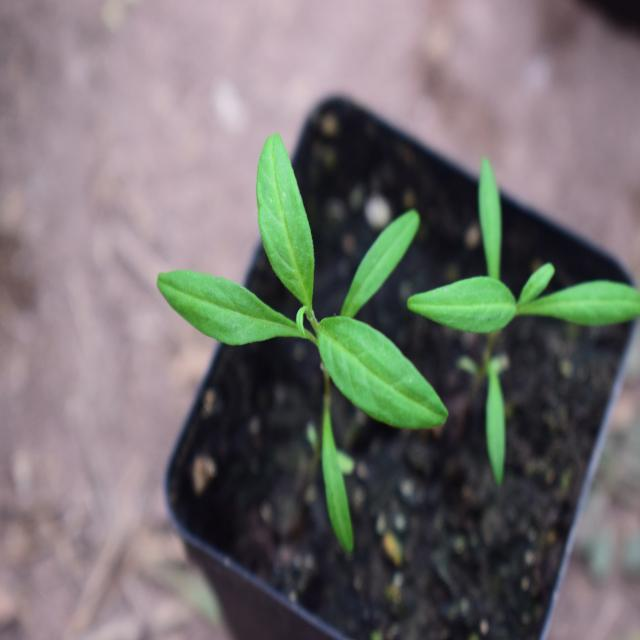white_smart_weed: (161, 145, 457, 480), (418, 172, 622, 385)
